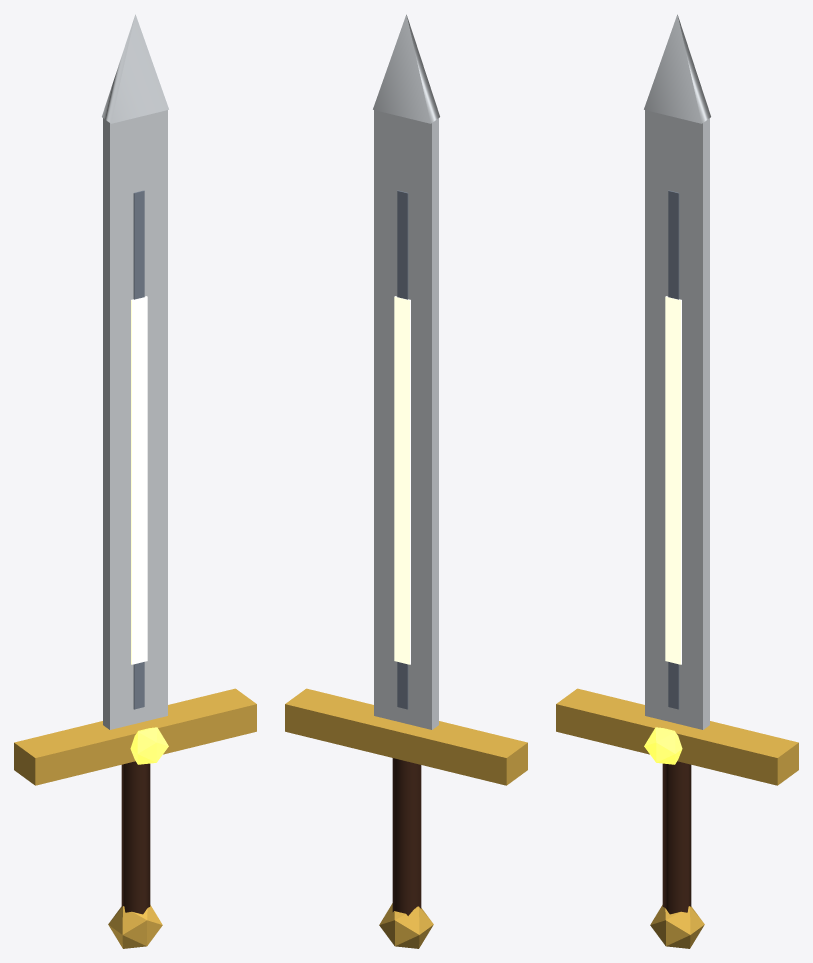
Rendered from weapon_greatsword_t3.glb.
3 renders of one model, left to right at view 1: azimuth 30°, elevation 25°; view 2: azimuth 150°, elevation 25°; view 3: azimuth 330°, elevation 25°, orthographic.
Parts seen in each view (by area): view 1: item_metal3, item_trim3, item_rune, item_leather3, item_darkMetal3, item_gem3; view 2: item_metal3, item_trim3, item_rune, item_leather3, item_darkMetal3; view 3: item_metal3, item_trim3, item_rune, item_leather3, item_darkMetal3, item_gem3.
Part boxes in pixels (<box>): item_metal3: <box>102,14,168,729</box>; item_trim3: <box>14,688,256,948</box>; item_rune: <box>131,296,147,664</box>; item_leather3: <box>121,761,150,914</box>; item_darkMetal3: <box>133,190,144,709</box>; item_gem3: <box>130,727,168,764</box>; item_metal3: <box>373,14,439,729</box>; item_trim3: <box>285,688,527,948</box>; item_rune: <box>394,296,410,664</box>; item_leather3: <box>392,758,421,915</box>; item_darkMetal3: <box>397,190,408,709</box>; item_metal3: <box>644,14,710,729</box>; item_trim3: <box>556,688,798,948</box>; item_rune: <box>665,296,681,664</box>; item_leather3: <box>662,761,691,914</box>; item_darkMetal3: <box>668,190,679,709</box>; item_gem3: <box>644,727,682,764</box>.
Bounding box in the file's own units: 0.42 × 1.69 × 0.1081.
